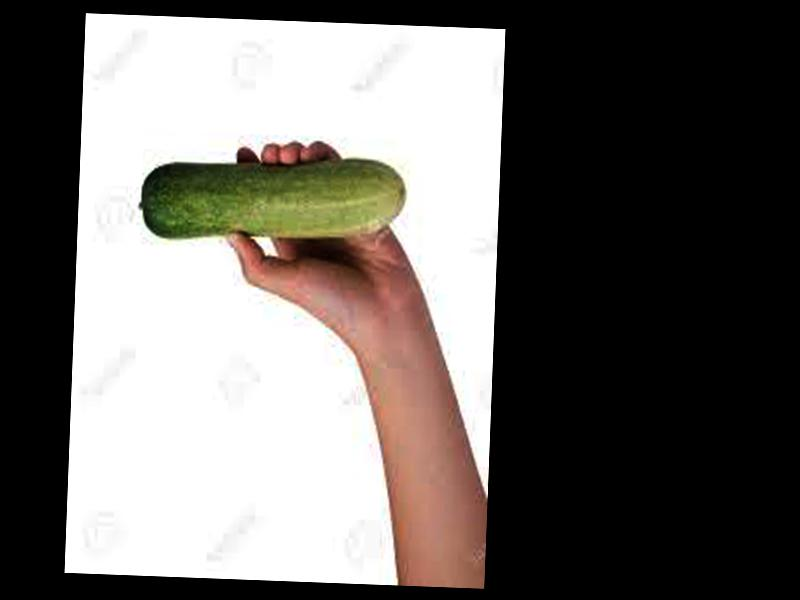Cucumber: (136, 153, 408, 252)
